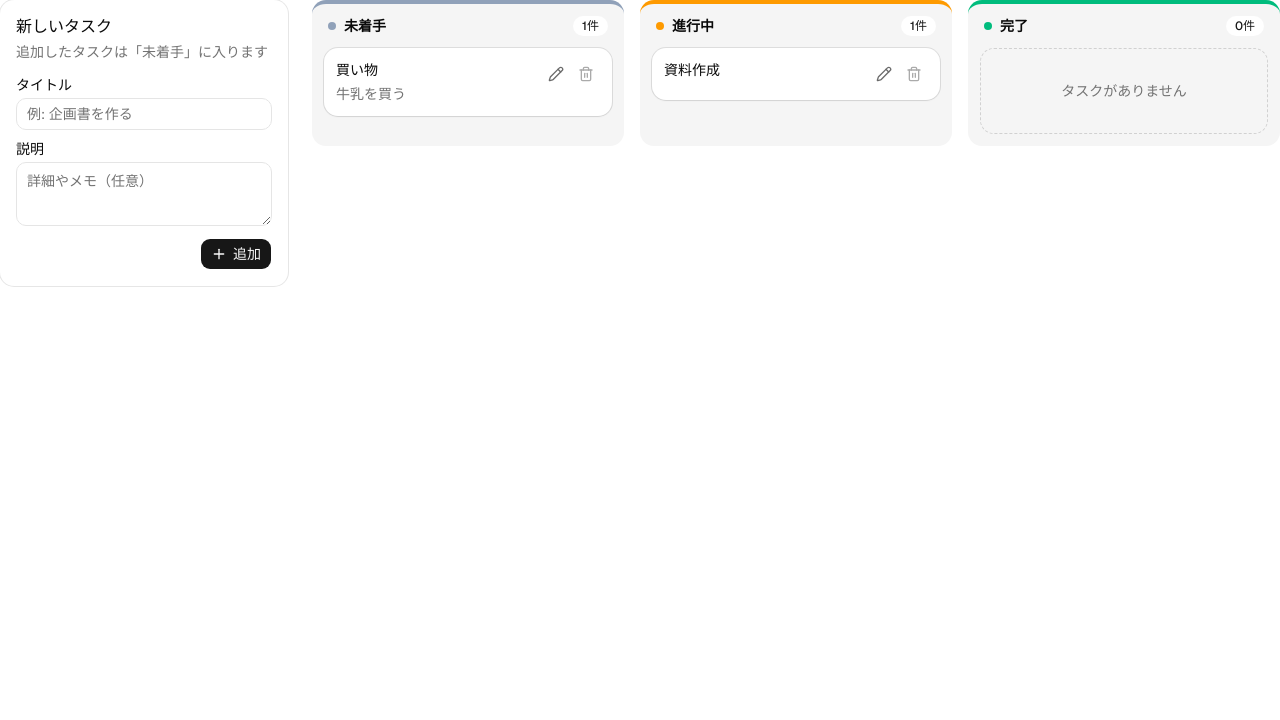
it: 削除 › 確認ダイアログで「キャンセル」を押すとダイアログが閉じ、タスクは残る
This screenshot has width=1280, height=720.
Expected: the heading "買い物" is shown, [336, 61, 378, 79]
Click the button named "「買い物」を削除" at (586,74), box [572, 60, 600, 88]
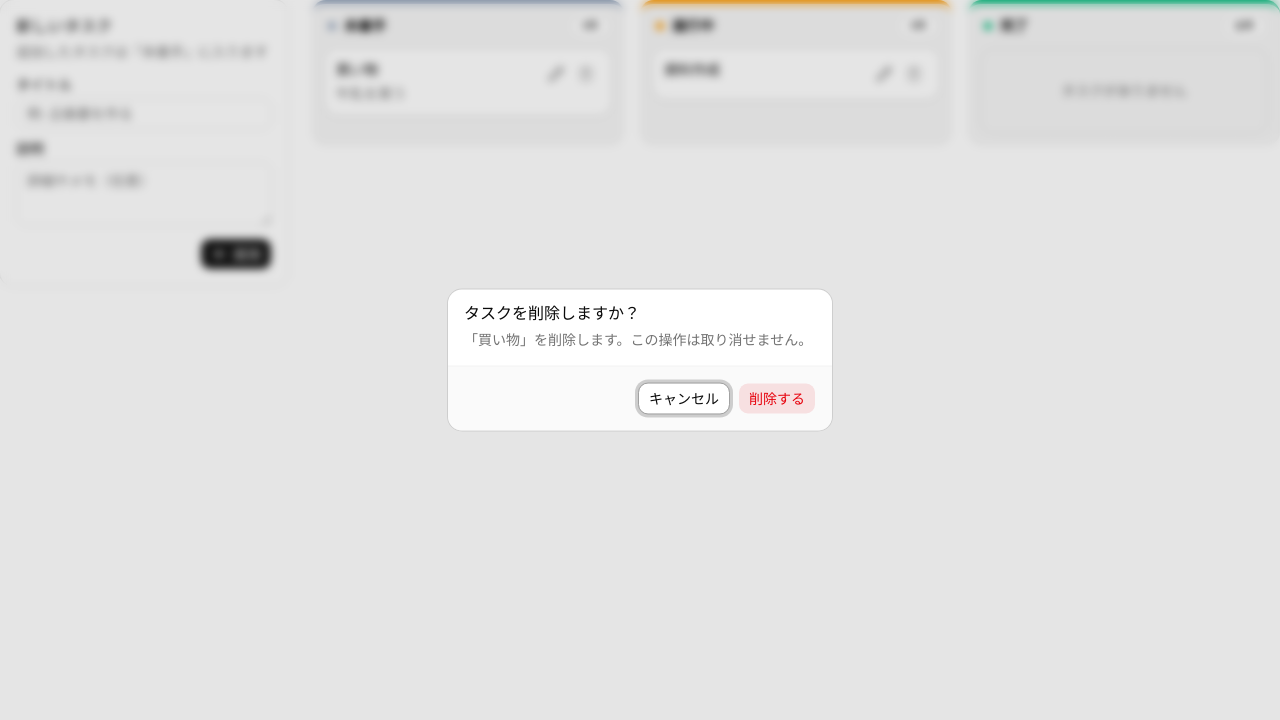
Click the button "キャンセル" at (684,398), box [638, 382, 730, 414]
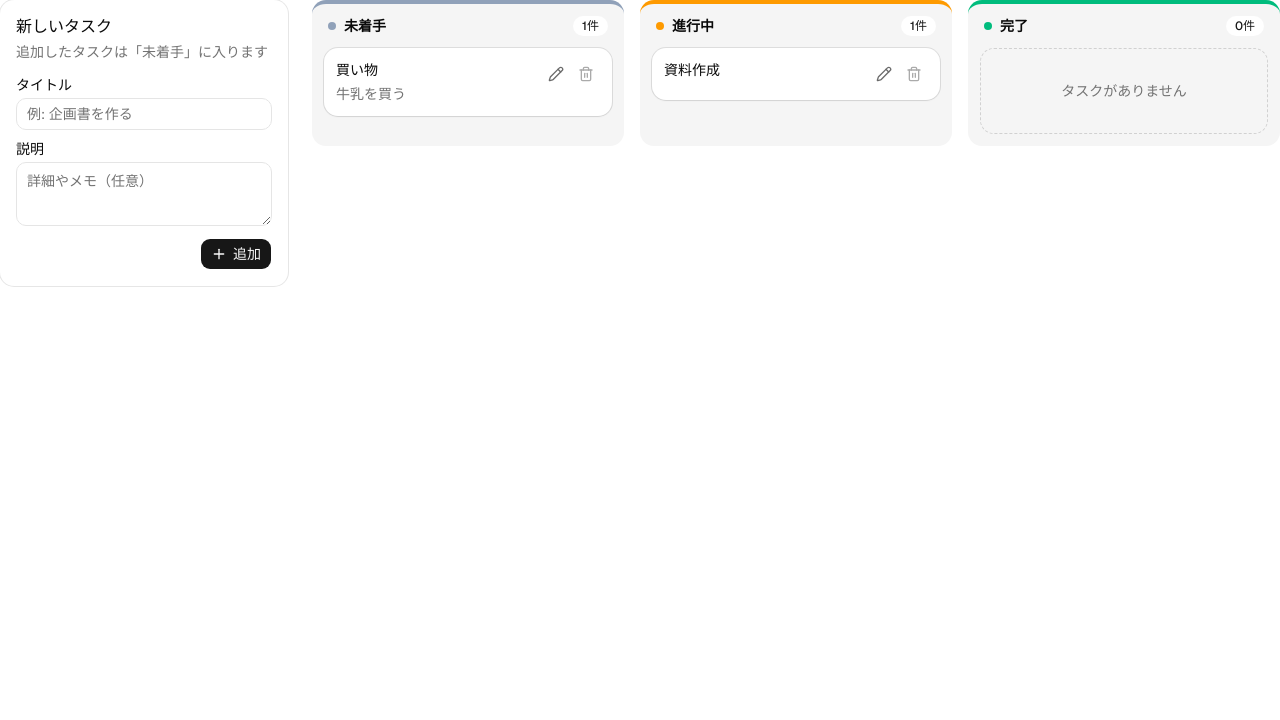
Expected: the heading "買い物" is shown, [336, 61, 378, 79]
Result: the dialog is gone
